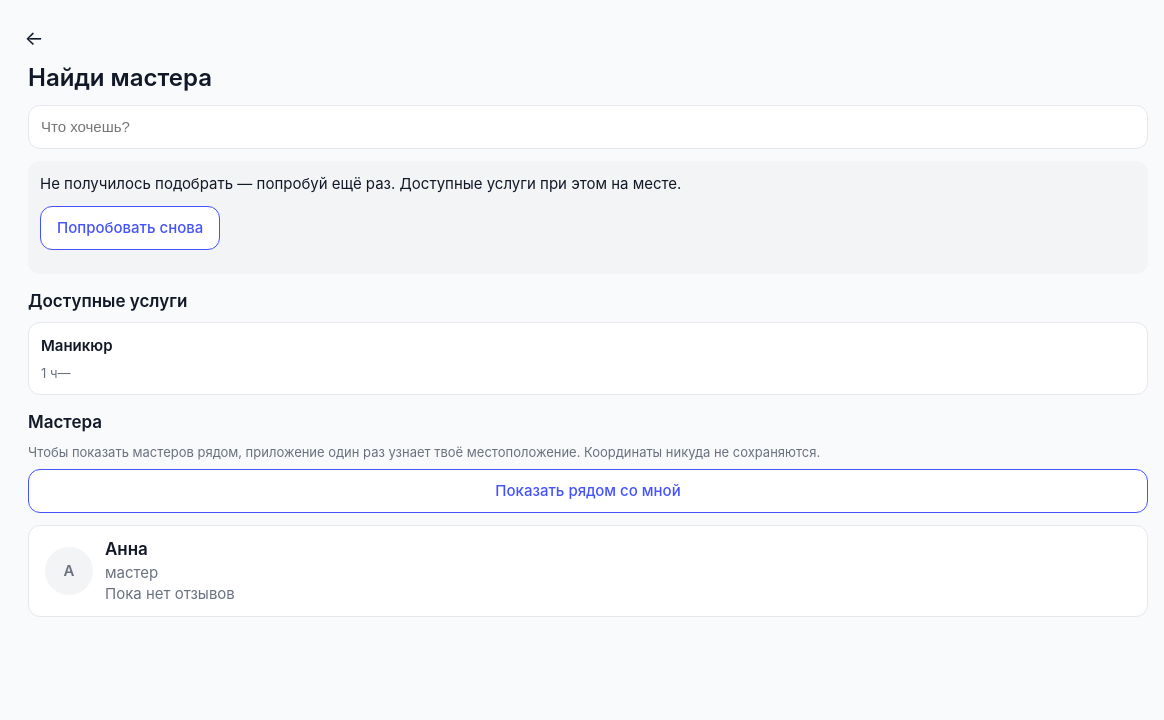
Test: отказ источника (DRF-1768) › UNAVAILABLE → «попробовать снова»; повтор — только подбор; удача снимает кадр
Expected: the text "Не получилось подобрать — попробуй ещё раз. Доступные услуги при этом на месте." is shown, top-left (40, 174), bottom-right (681, 193)
Click the button "Попробовать снова" at [130, 228], box top-left (40, 206), bottom-right (220, 250)
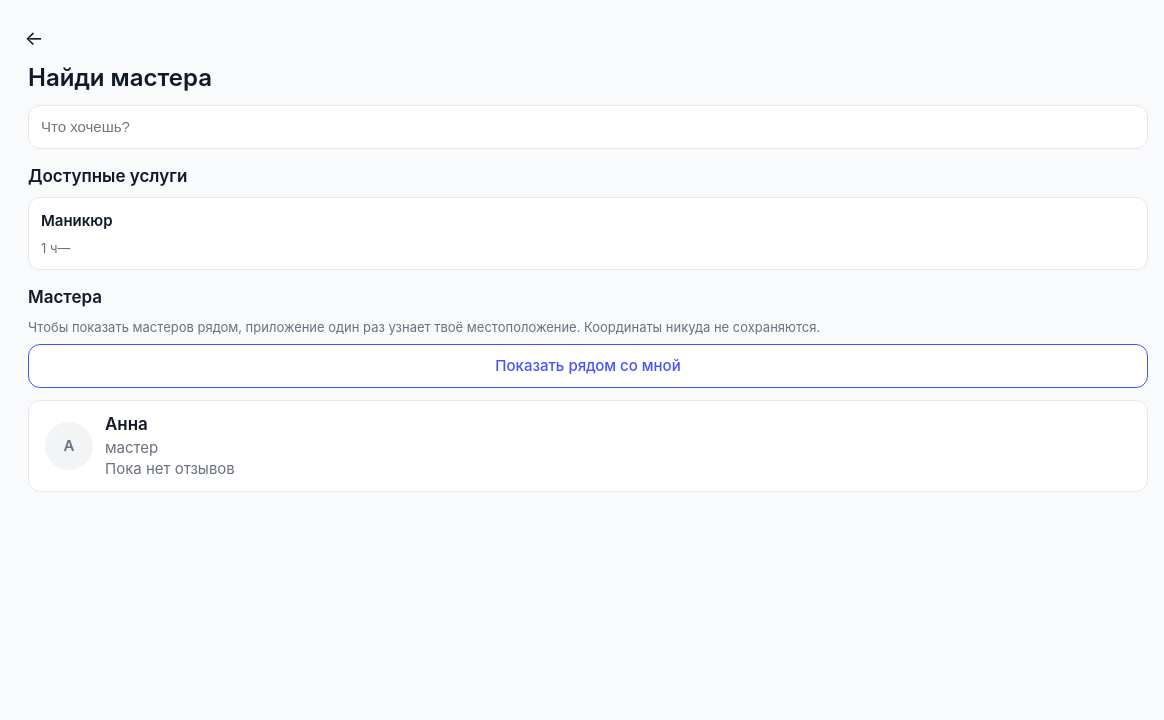
Expected: the text "Не получилось подобрать — попробуй ещё раз. Доступные услуги при этом на месте." is gone
